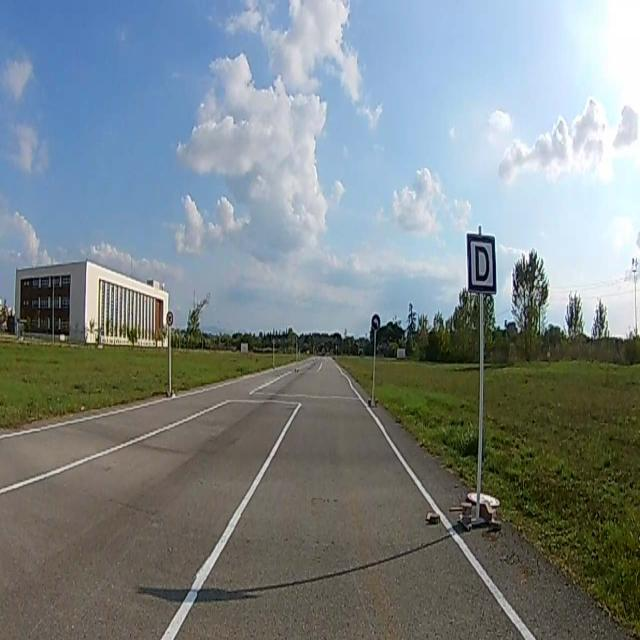durak: (466, 233, 496, 290)
